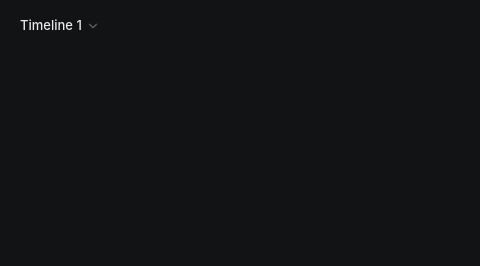
Test: TimelineSelector › checks the active timeline and explains why the only timeline cannot be deleted
Press Enter in the button "Timeline 1", box [12,12,106,40]
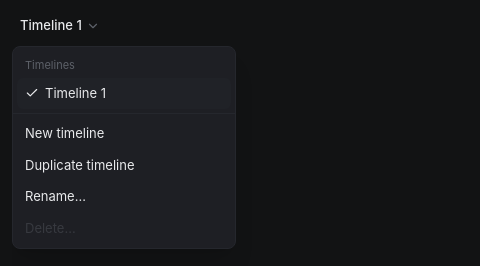
Focus the menu item "Delete…" at [50, 228], box [25,220,76,236]
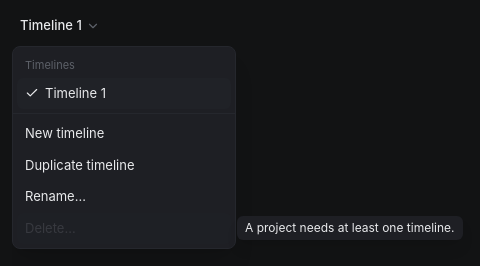
expect the tooltip reads "A project needs at least one timeline.": met, box [245,220,454,235]
